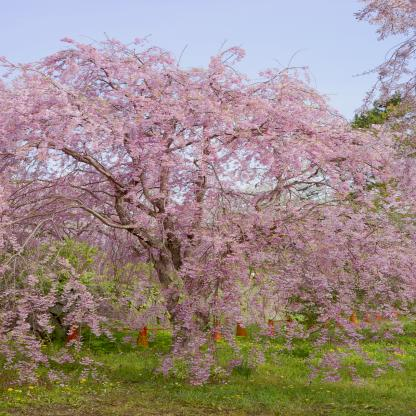ShidareZakura: (0, 28, 416, 391), (345, 1, 416, 119)
